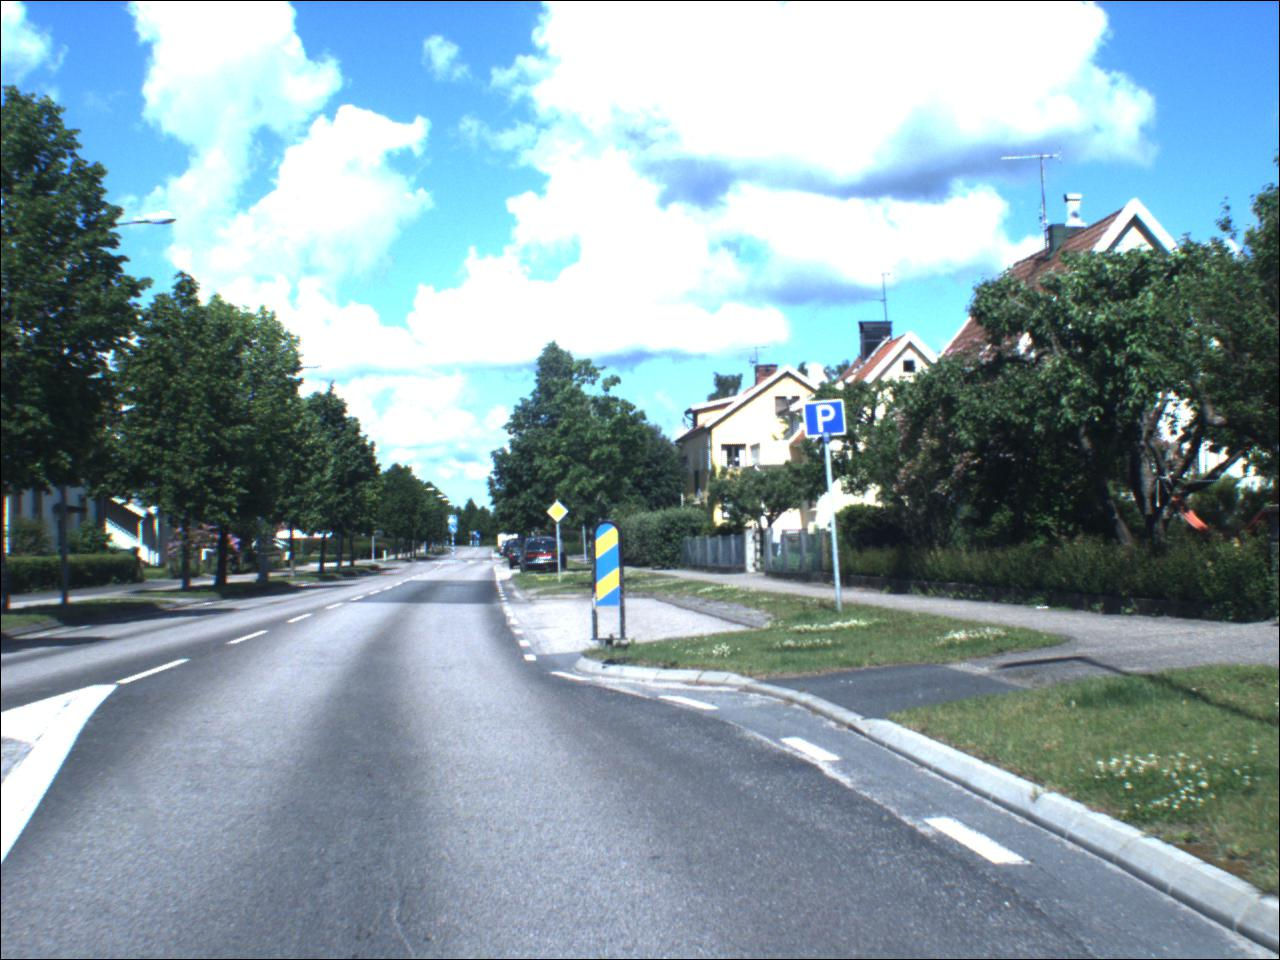PASS_RIGHT_SIDE: (449, 526, 460, 536)
PEDESTRIAN_CROSSING: (450, 518, 460, 527)
PRIORITY_ROAD: (547, 501, 573, 526)
